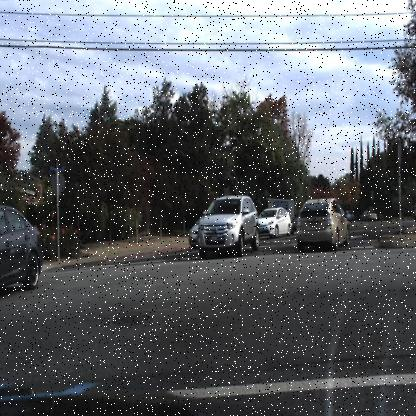car: (0, 203, 44, 300), (196, 193, 258, 256), (294, 198, 347, 260), (256, 206, 293, 238), (356, 207, 380, 227)
